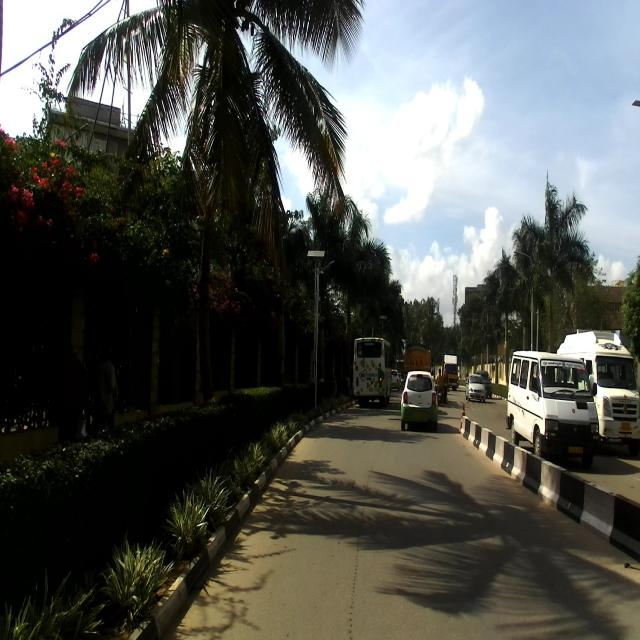Car: (506, 348, 602, 464)
